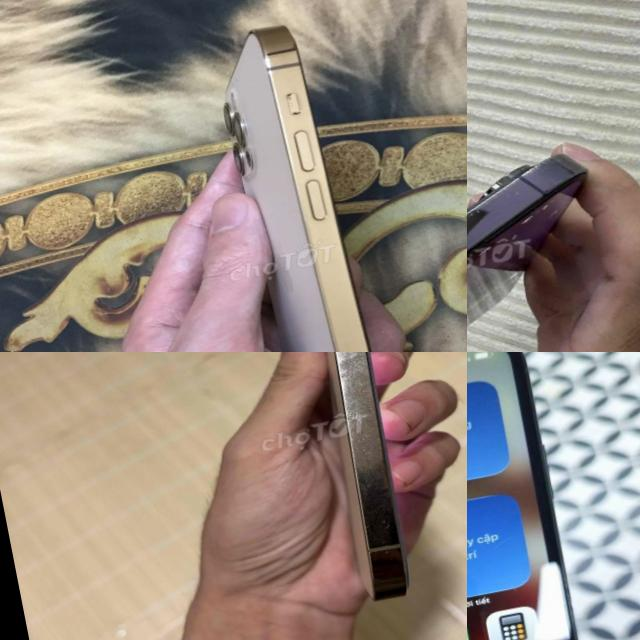gen_11: (467, 352, 623, 640)
gen_12_13: (199, 6, 440, 352)
gen_14: (250, 352, 442, 623), (467, 158, 587, 324)
